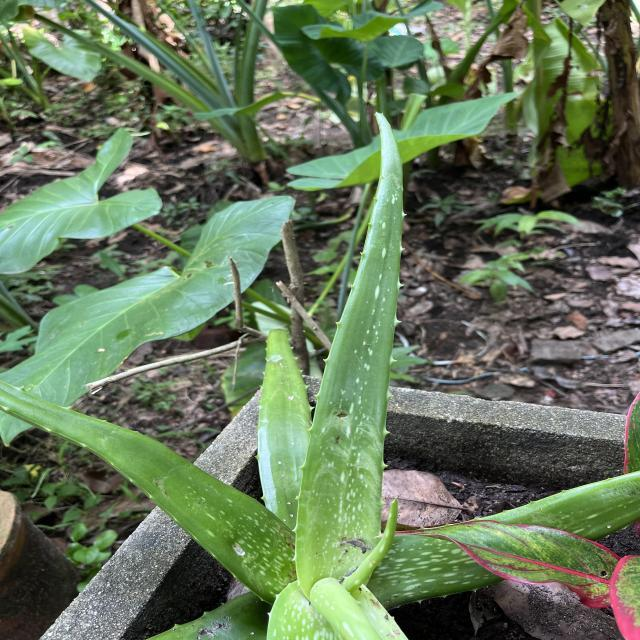Aloe vera: (290, 106, 410, 590)
